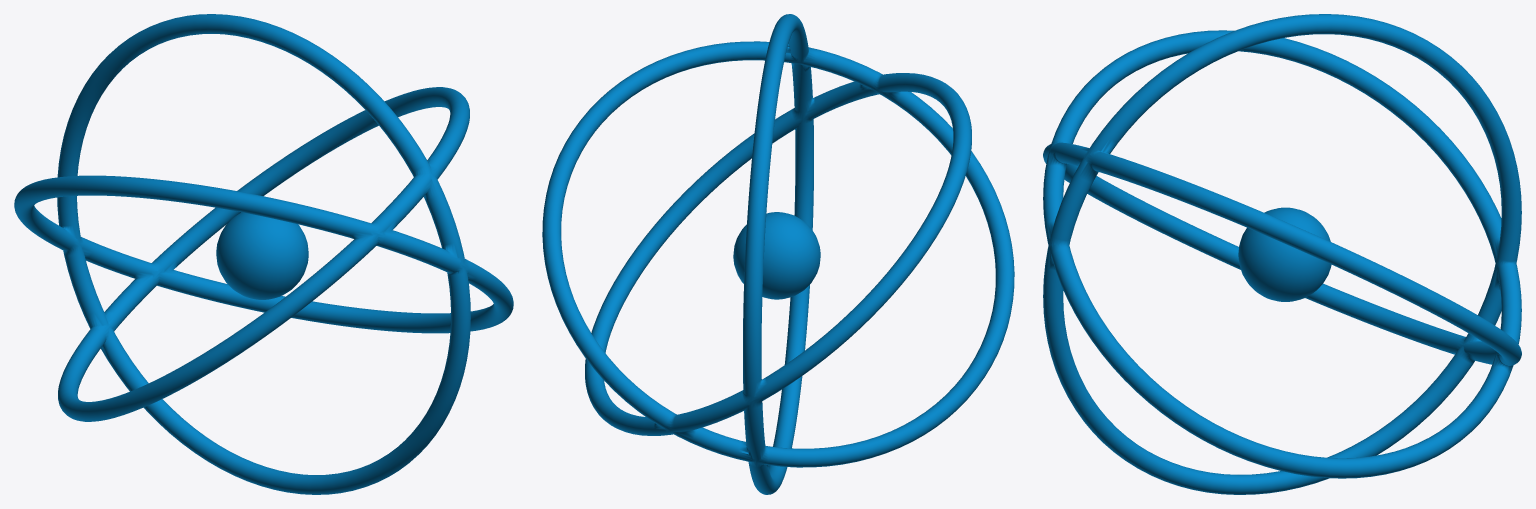
The model's file is react3D2.glb.
3 views of the same model, side by side, from view 1: azimuth 30°, elevation 25°; view 2: azimuth 150°, elevation 25°; view 3: azimuth 270°, elevation 25° (orthographic). The views are drawn at different scales.
Visible parts, largest first — view 1: Torus.002, Sphere; view 2: Torus.002, Sphere; view 3: Torus.002, Sphere.
Boxes of the visible parts, x1,y1,x2,y2 form: Torus.002: [14, 14, 513, 494]; Sphere: [216, 212, 308, 299]; Torus.002: [542, 14, 1014, 494]; Sphere: [733, 212, 820, 299]; Torus.002: [1043, 14, 1521, 494]; Sphere: [1238, 207, 1331, 301].
Bounding box in the file's own units: 0.491 × 0.5511 × 0.5071.
